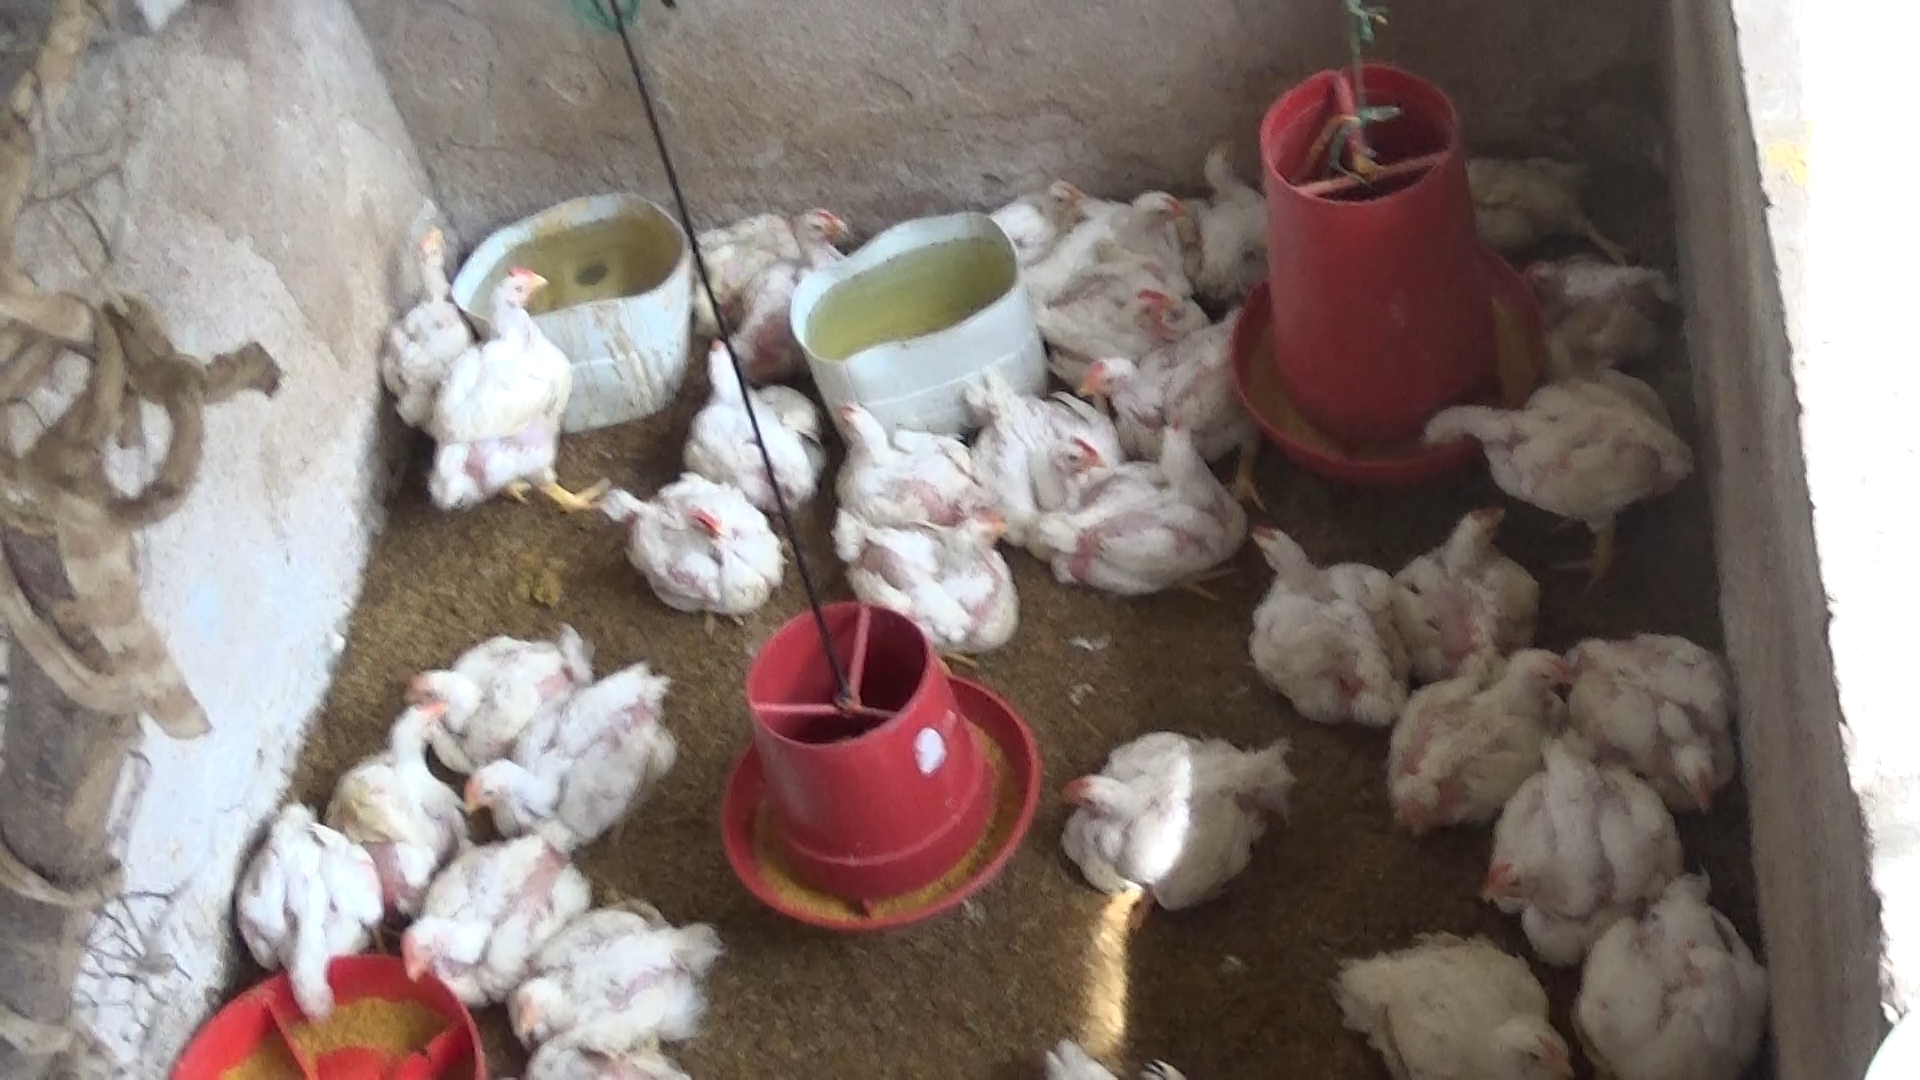Pollos: (425, 257, 593, 551), (1477, 723, 1685, 945), (1046, 727, 1282, 920), (1581, 868, 1776, 1080), (462, 655, 682, 843), (1416, 384, 1712, 522), (1370, 642, 1585, 832), (1323, 924, 1582, 1080), (1567, 617, 1753, 822), (1033, 409, 1250, 582), (1241, 517, 1429, 712), (390, 829, 589, 1011), (508, 893, 725, 1044), (831, 504, 1025, 667), (956, 368, 1133, 547), (316, 698, 471, 893), (227, 798, 372, 1004), (407, 615, 603, 760), (1393, 495, 1547, 671), (625, 472, 785, 637), (675, 332, 822, 502), (1076, 324, 1247, 469), (1522, 237, 1687, 377), (827, 396, 976, 545), (365, 223, 471, 429), (705, 207, 865, 336), (1033, 179, 1196, 295), (1056, 286, 1230, 378), (1004, 157, 1080, 273)
